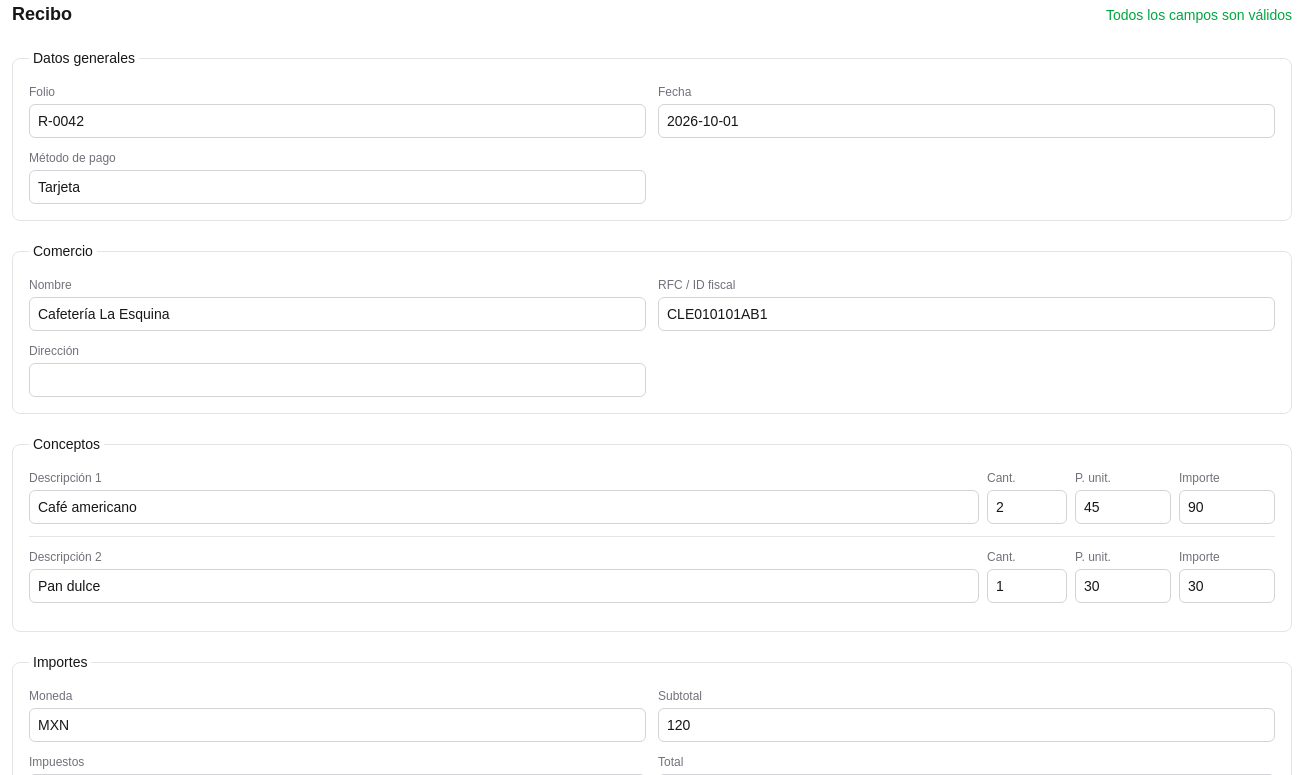
Test case: DocumentForm › vaciar un campo obligatorio lo pone en rojo
Clear the field labelled "Nombre" at (338, 314), box [29,297,646,331]
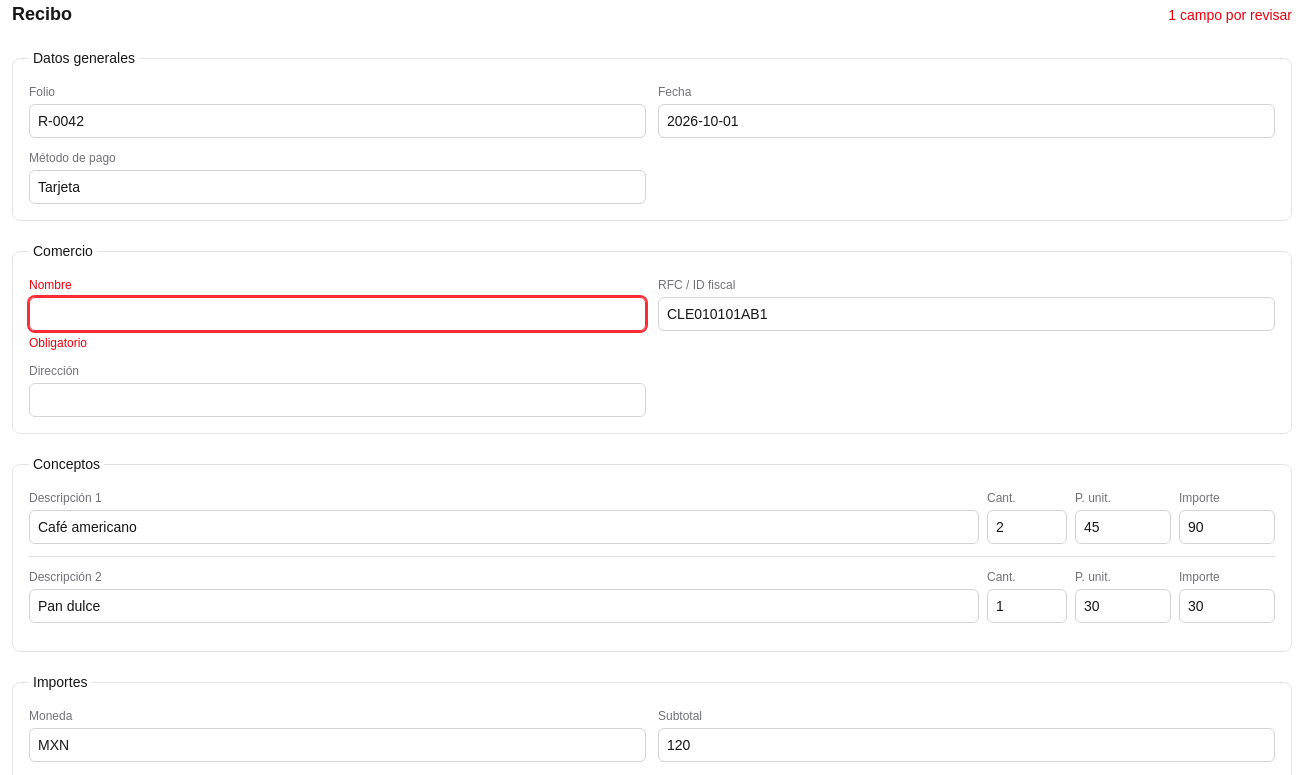
Expected: the text "1 campo por revisar" is shown, [1168,5,1292,25]
